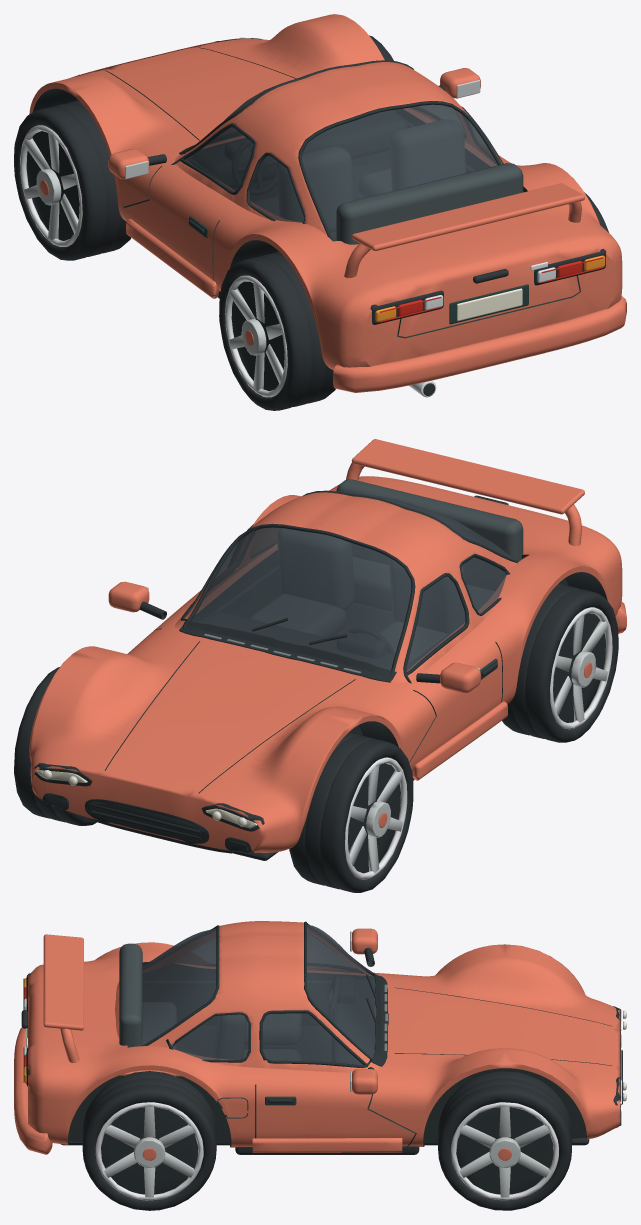
Rendered from tsuki_lod1.fbx.
3 views of the same model, one above another, from view 1: azimuth 30°, elevation 25°; view 2: azimuth 150°, elevation 25°; view 3: azimuth 270°, elevation 25° (orthographic). The views are drawn at different scales.
Visible parts, largest first — view 1: Body, Wheel_FL_Mesh, Wheel_RL_Mesh; view 2: Body, Wheel_FL_Mesh, Wheel_RL_Mesh, Wheel_FR_Mesh; view 3: Body, Wheel_FR_Mesh, Wheel_RR_Mesh.
Boxes of the visible parts, box(x1,y1,x2,y2) form: Body: box(29, 14, 626, 397); Wheel_FL_Mesh: box(14, 100, 130, 260); Wheel_RL_Mesh: box(219, 251, 335, 410); Body: box(29, 439, 626, 860); Wheel_FL_Mesh: box(289, 732, 413, 892); Wheel_RL_Mesh: box(502, 583, 618, 742); Wheel_FR_Mesh: box(14, 667, 96, 825); Body: box(14, 921, 626, 1154); Wheel_FR_Mesh: box(438, 1071, 571, 1210); Wheel_RR_Mesh: box(82, 1071, 216, 1210).
Bounding box in the file's own units: 233 × 143 × 393.
